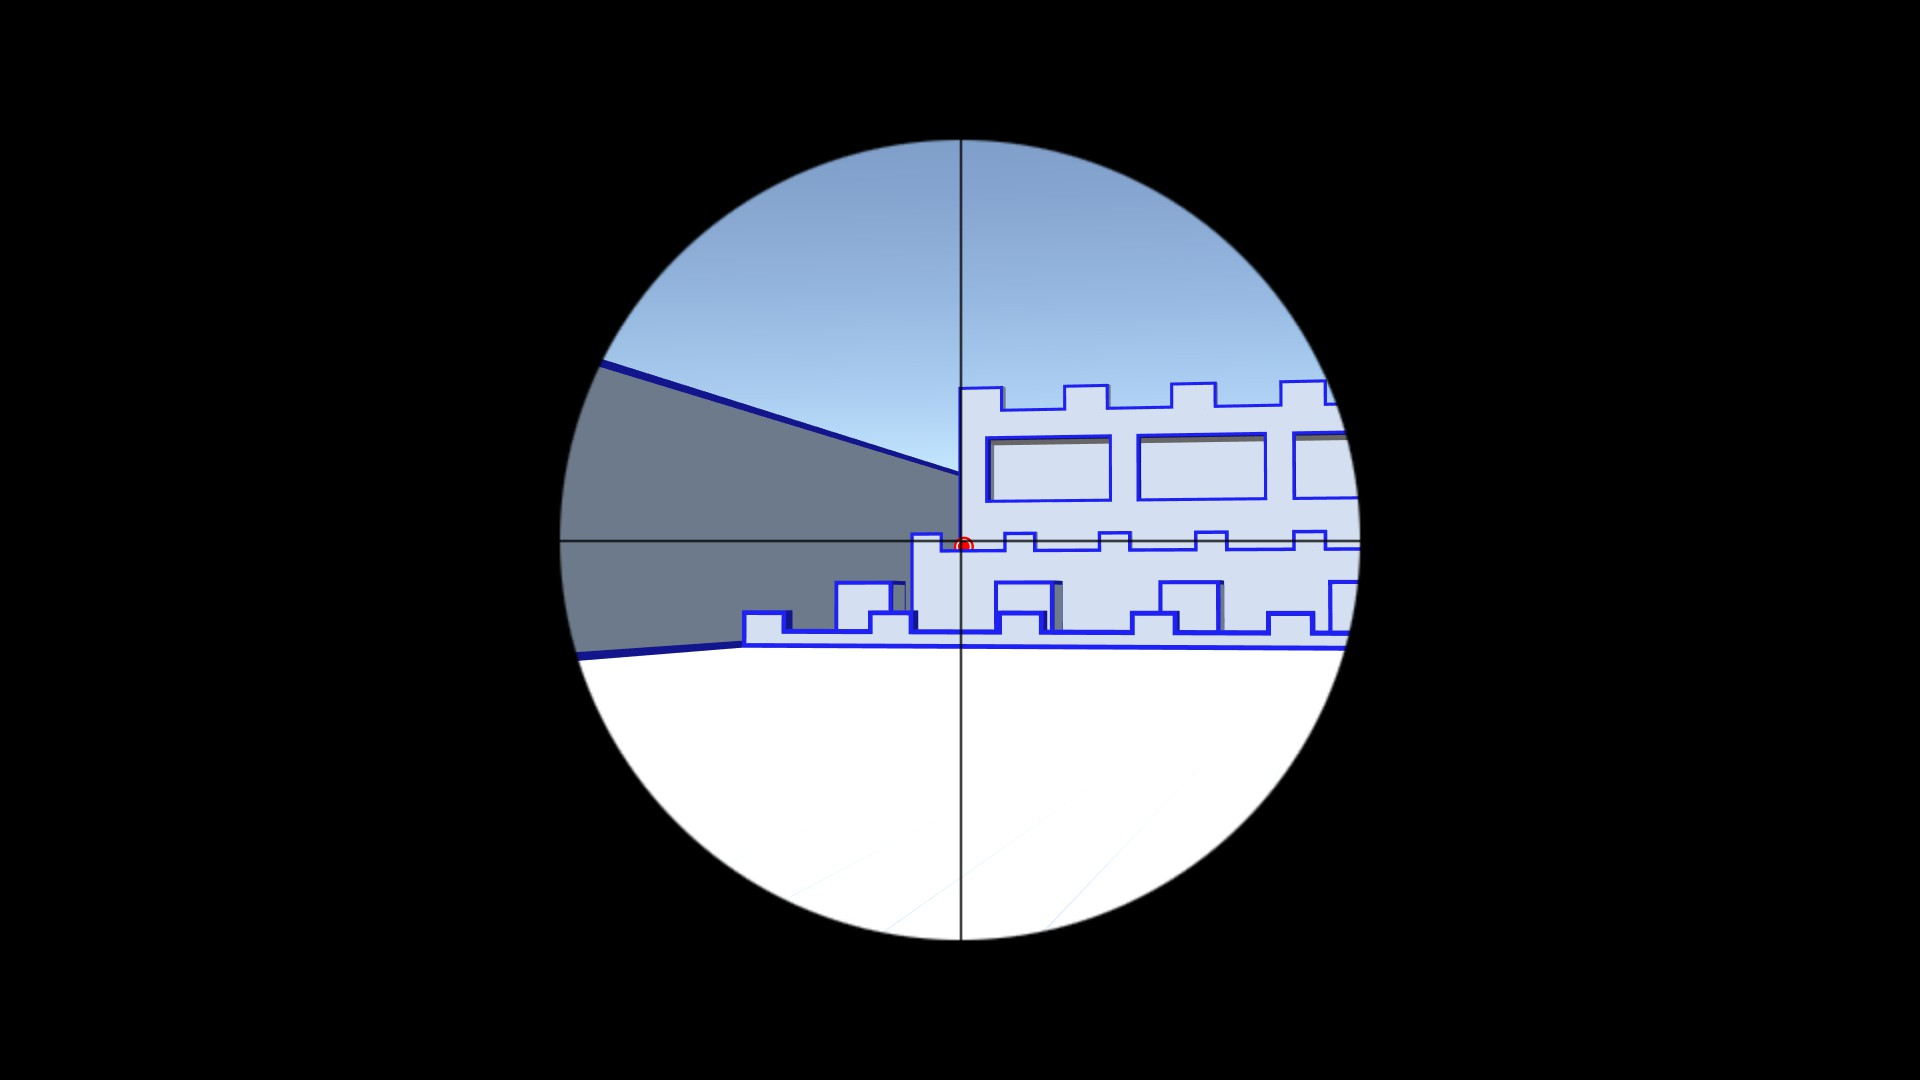target: (953, 535, 975, 554)
